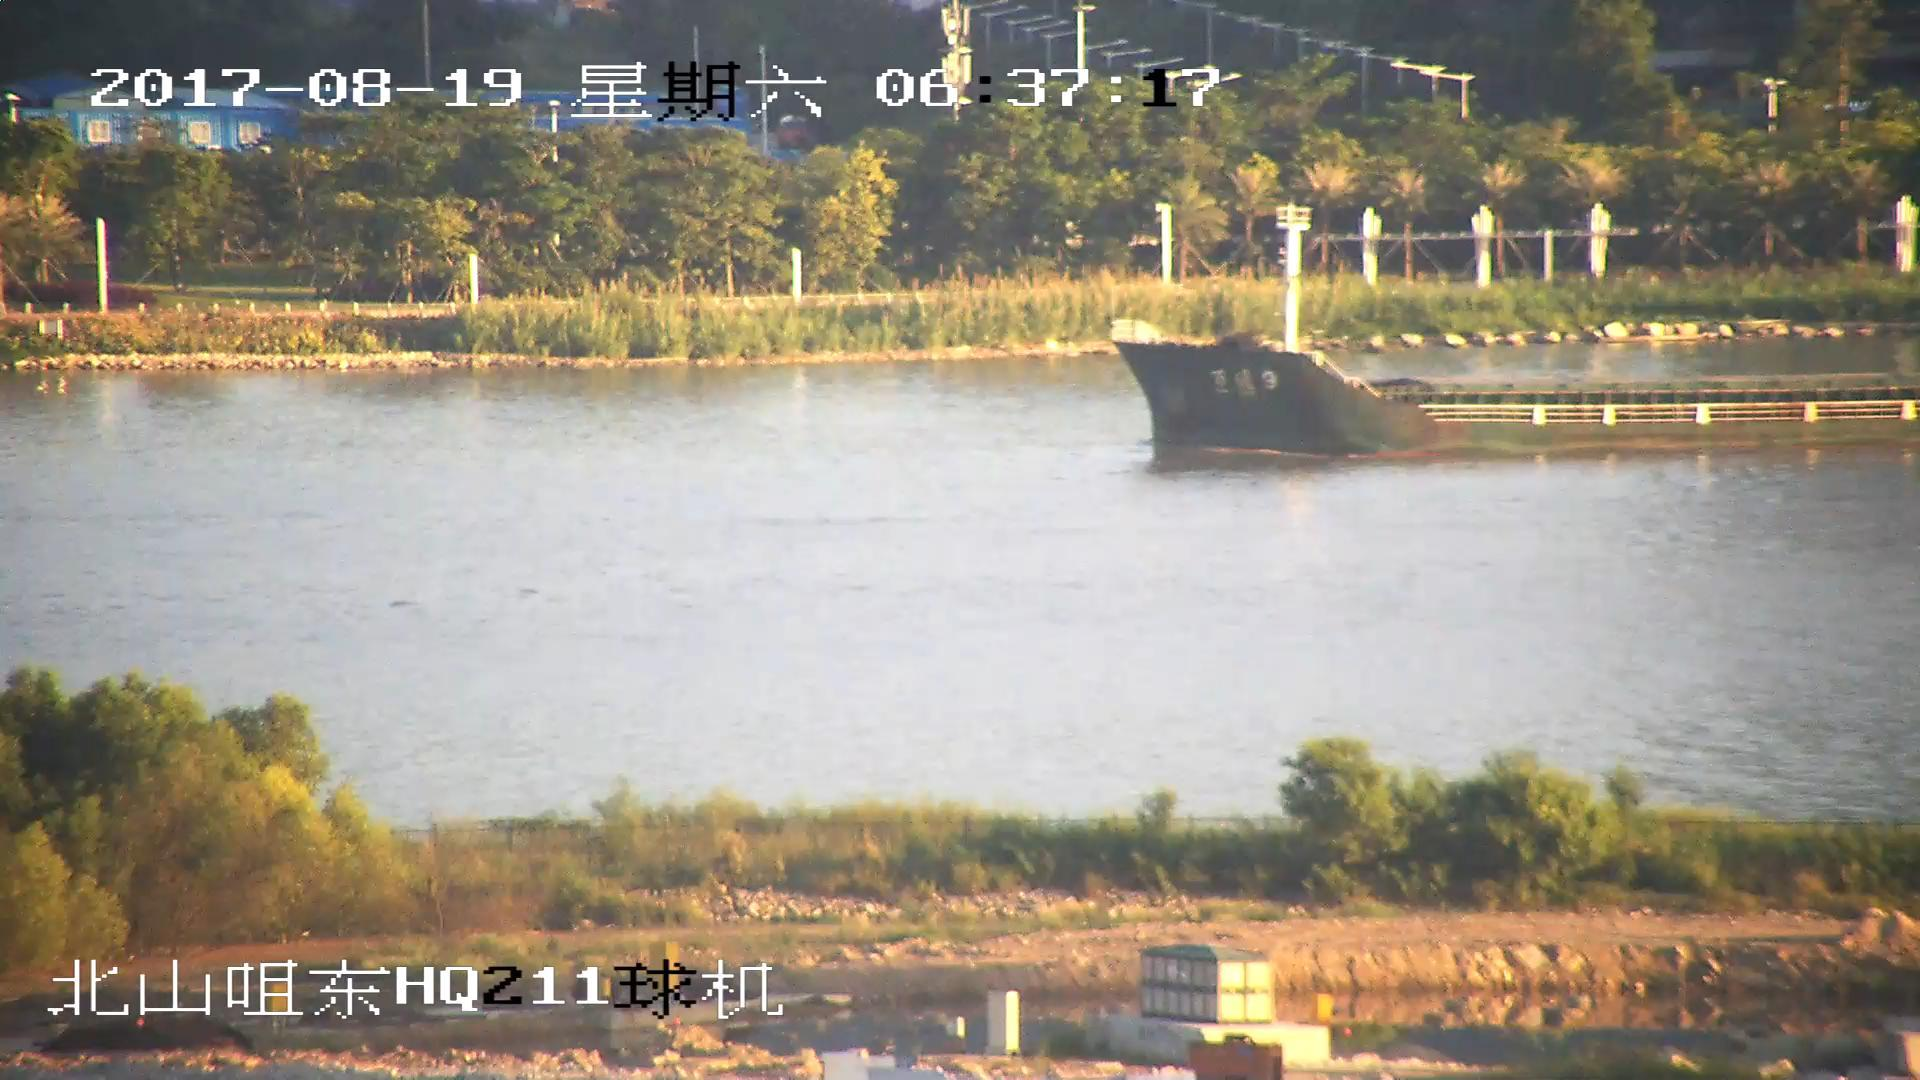Ship: (1109, 225, 1920, 454)
